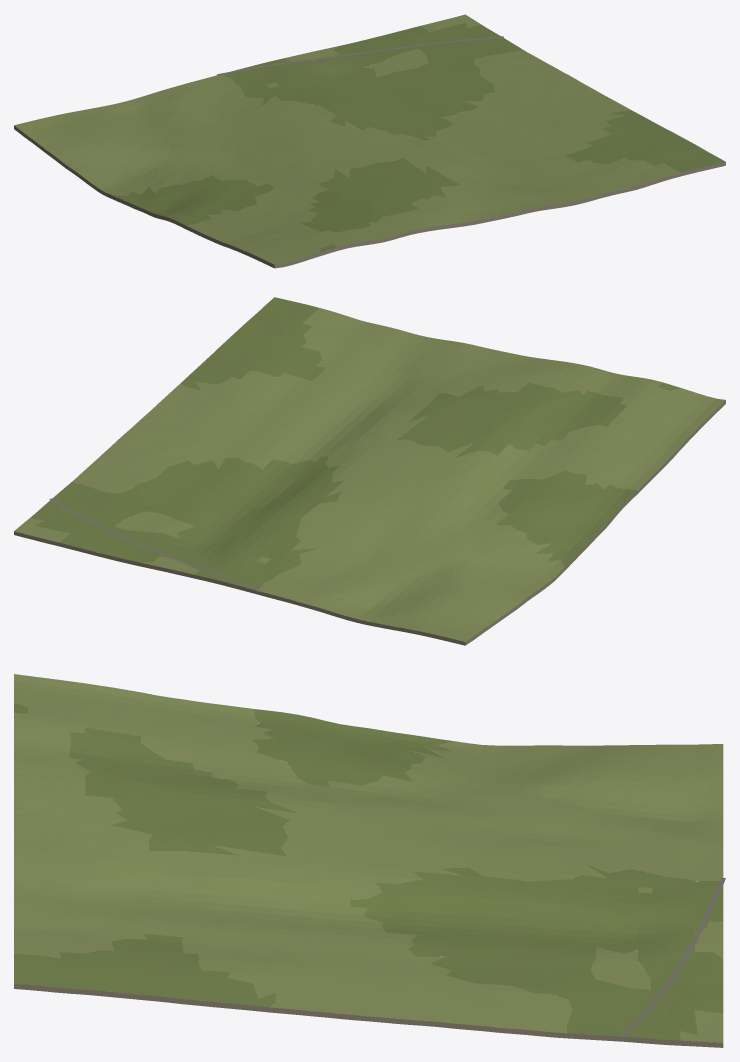
The model's file is parca_+9_-3-uzak.glb.
3 views of the same model, one above another, from view 1: azimuth 30°, elevation 25°; view 2: azimuth 150°, elevation 25°; view 3: azimuth 270°, elevation 25° (orthographic). The views are drawn at different scales.
Visible parts, largest first — view 1: parca_+9_-3_arazi_uzak, parca_+9_-3_yollar_uzak; view 2: parca_+9_-3_arazi_uzak, parca_+9_-3_yollar_uzak; view 3: parca_+9_-3_arazi_uzak, parca_+9_-3_yollar_uzak.
Part boxes in pixels (<box>): parca_+9_-3_arazi_uzak: <box>14,14,725,268</box>; parca_+9_-3_yollar_uzak: <box>217,36,503,75</box>; parca_+9_-3_arazi_uzak: <box>14,297,725,645</box>; parca_+9_-3_yollar_uzak: <box>49,498,262,592</box>; parca_+9_-3_arazi_uzak: <box>14,674,723,1047</box>; parca_+9_-3_yollar_uzak: <box>619,878,725,1037</box>.
Bounding box in the file's own units: 1003 × 129 × 1004.
